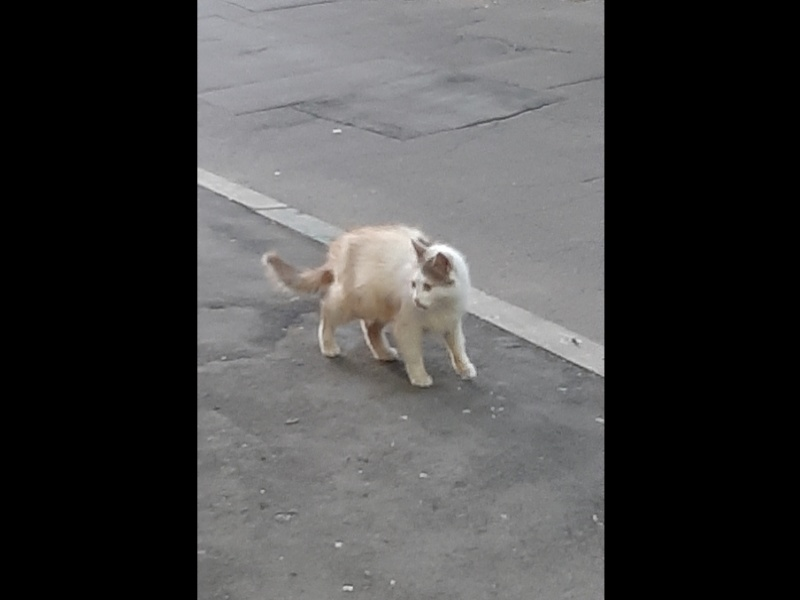cat: (262, 219, 481, 387)
